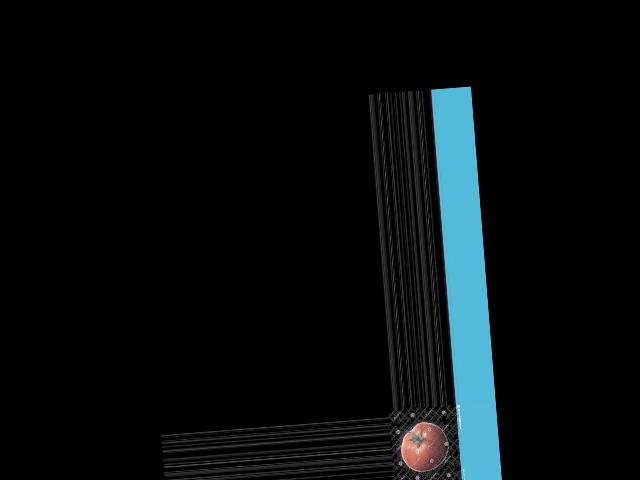tomato: (399, 420, 450, 474)
